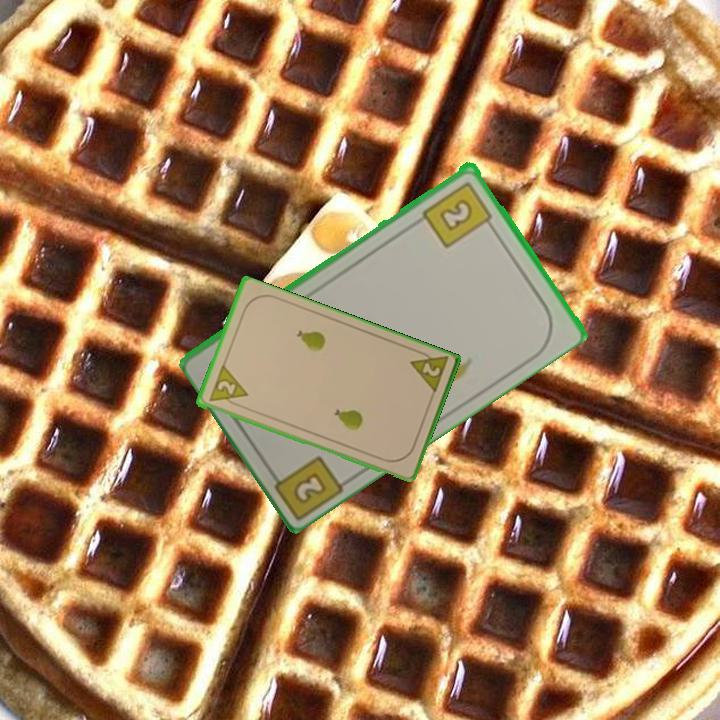2b: (419, 177, 498, 251), (264, 451, 348, 520)
2p: (204, 363, 250, 410), (418, 359, 443, 380)
